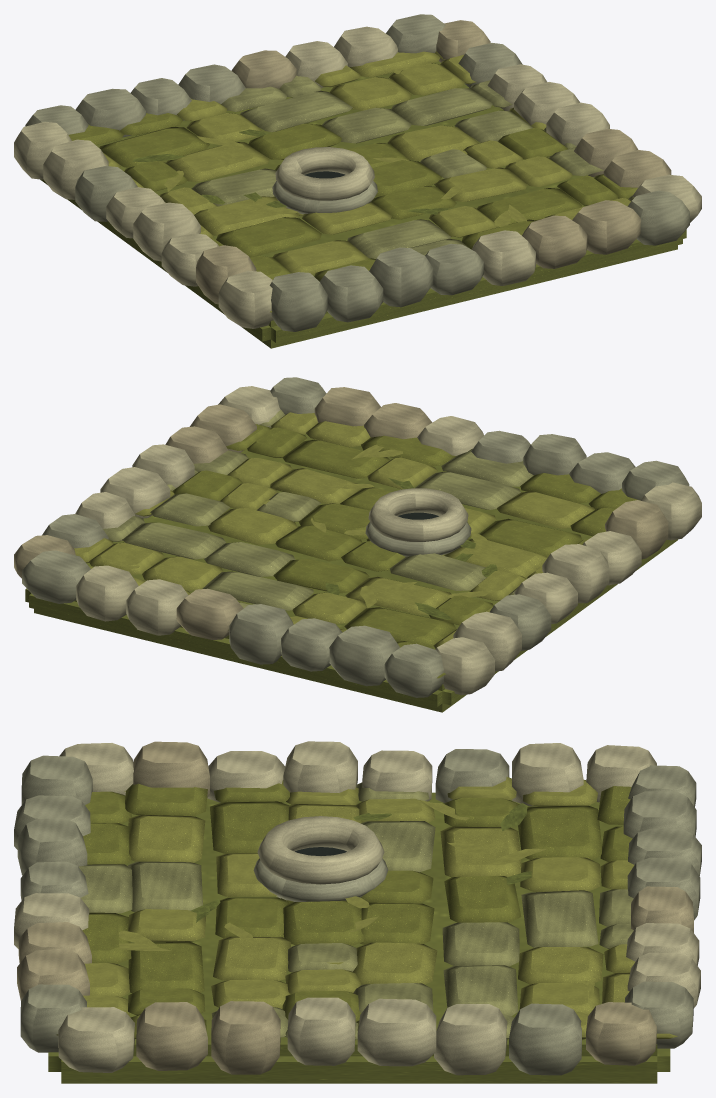
Rendered from keeper-gatehouse-roof.fbx.
3 views of the same model, one above another, from view 1: azimuth 30°, elevation 25°; view 2: azimuth 150°, elevation 25°; view 3: azimuth 270°, elevation 25° (orthographic). The views are drawn at different scales.
Visible parts, largest first — view 1: keeper-gatehouse-roof__Geometry; view 2: keeper-gatehouse-roof__Geometry; view 3: keeper-gatehouse-roof__Geometry.
Part boxes in pixels (x1=…): keeper-gatehouse-roof__Geometry: x1=14, y1=14, x2=701, y2=348; keeper-gatehouse-roof__Geometry: x1=14, y1=377, x2=701, y2=712; keeper-gatehouse-roof__Geometry: x1=14, y1=741, x2=701, y2=1083.
Bounding box in the file's own units: 4.48 × 0.6409 × 4.49.
